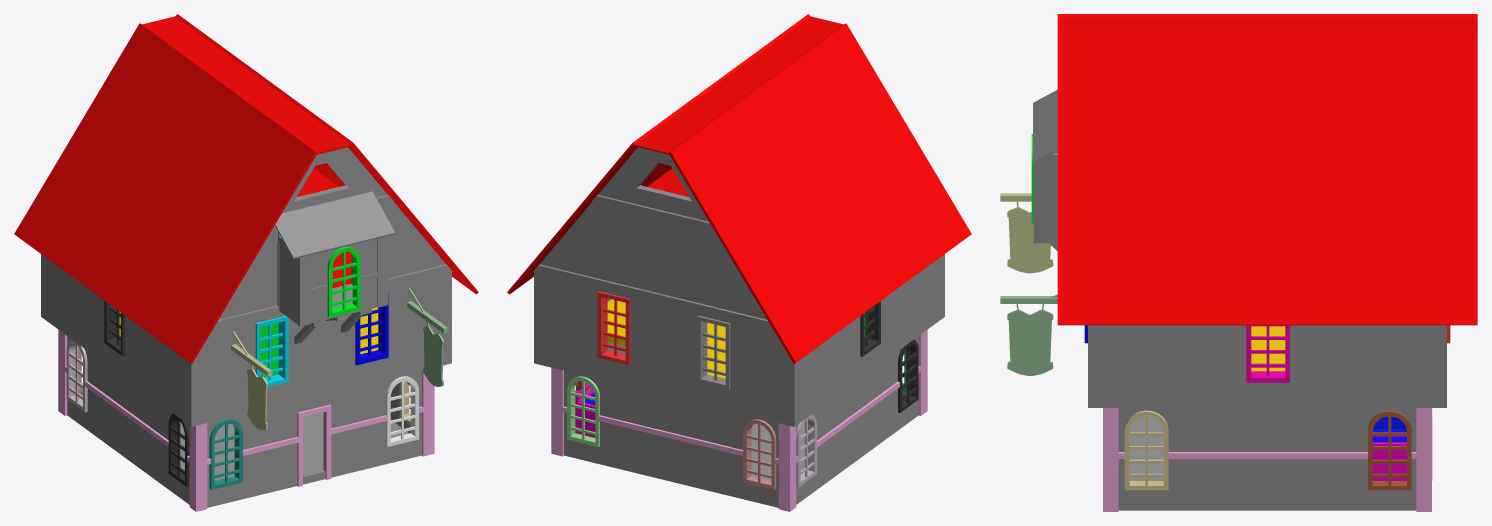
Rendered from medievel house, inn.FBX.
3 renders of one model, left to right at view 1: azimuth 30°, elevation 25°; view 2: azimuth 150°, elevation 25°; view 3: azimuth 270°, elevation 25°, orthographic. The views are drawn at different scales.
Parts seen in each view (by area): view 1: Object029, node_304_017, Box229, Box230, Object032, Box222, Box221, Cube607, Cube606_003, Object033, Box226, Box225 (+4 smaller); view 2: Object029, node_304_017, Box229, Object030, Object031, Box227, Box228, Floor01, Box225, Box226, Object035, Staircase01 (+1 smaller); view 3: node_304_017, Object029, Box229, Cube607, Cube606_003, Box223, Box224, Object034, Floor01, Staircase01, Box034.
Part boxes in pixels (x1,y1,x2,y2): Object029: (41, 147, 452, 507); node_304_017: (14, 14, 478, 363); Box229: (58, 329, 434, 511); Box230: (327, 246, 360, 317); Object032: (255, 316, 288, 386); Box222: (209, 419, 242, 489); Box221: (386, 376, 418, 446); Cube607: (407, 288, 448, 386); Cube606_003: (231, 331, 272, 429); Object033: (355, 292, 388, 365); Box226: (66, 339, 87, 412); Box225: (168, 413, 189, 486); Object029: (533, 147, 944, 507); node_304_017: (507, 14, 971, 363); Box229: (551, 329, 927, 511); Object030: (597, 291, 630, 365); Object031: (697, 315, 730, 389); Box227: (743, 419, 776, 489); Box228: (567, 376, 599, 446); Floor01: (607, 299, 725, 378); Box225: (898, 339, 918, 412); Box226: (796, 414, 816, 487); Object035: (860, 301, 880, 356); Staircase01: (575, 384, 595, 437); node_304_017: (1057, 14, 1477, 325); Object029: (1033, 89, 1446, 510); Box229: (1103, 408, 1432, 511); Cube607: (1000, 294, 1057, 375); Cube606_003: (1000, 193, 1053, 273); Box223: (1124, 410, 1168, 490); Box224: (1368, 410, 1411, 490); Object034: (1246, 325, 1289, 382); Floor01: (1251, 326, 1285, 371); Staircase01: (1372, 436, 1406, 480); Box034: (1372, 416, 1406, 442).
Bounding box in the file's own units: 13.98 × 16.15 × 16.73.
